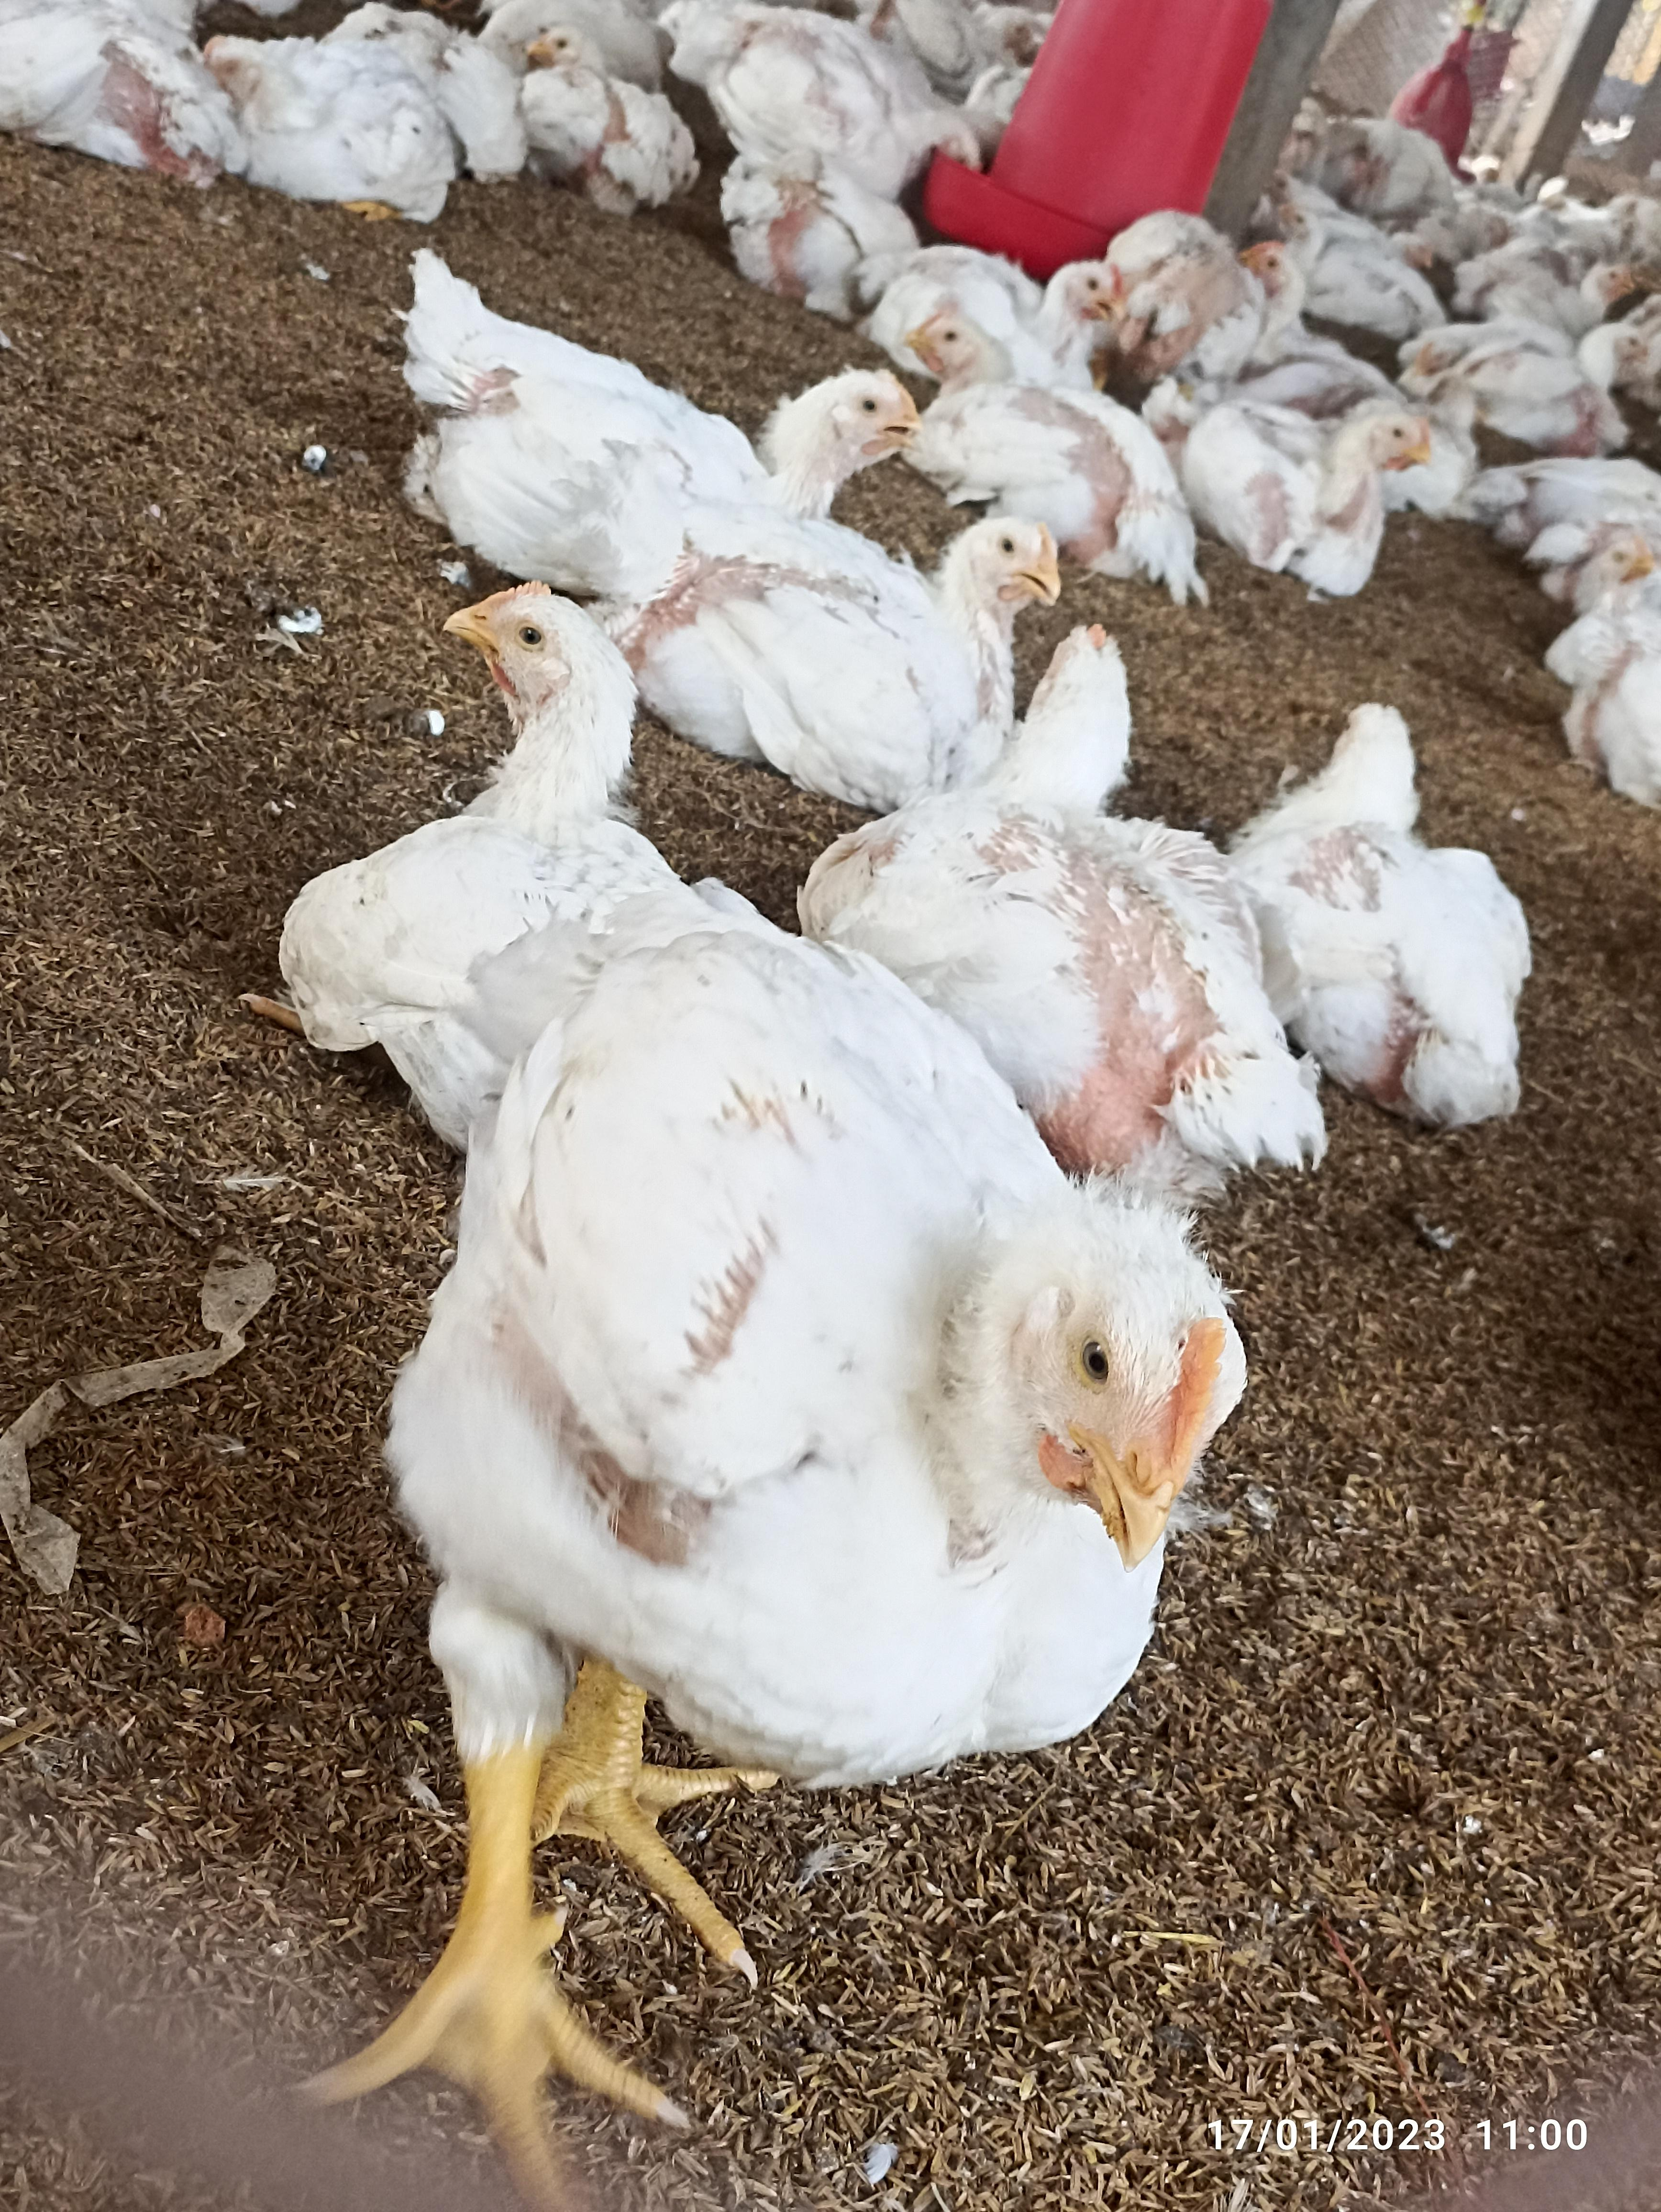Pollos: (403, 904, 1249, 1781), (865, 630, 1267, 1174), (298, 563, 691, 937), (1260, 701, 1549, 1106), (443, 307, 923, 546), (700, 509, 1064, 752), (906, 304, 1179, 492), (1183, 391, 1425, 600), (508, 21, 696, 213), (1007, 249, 1122, 368)
